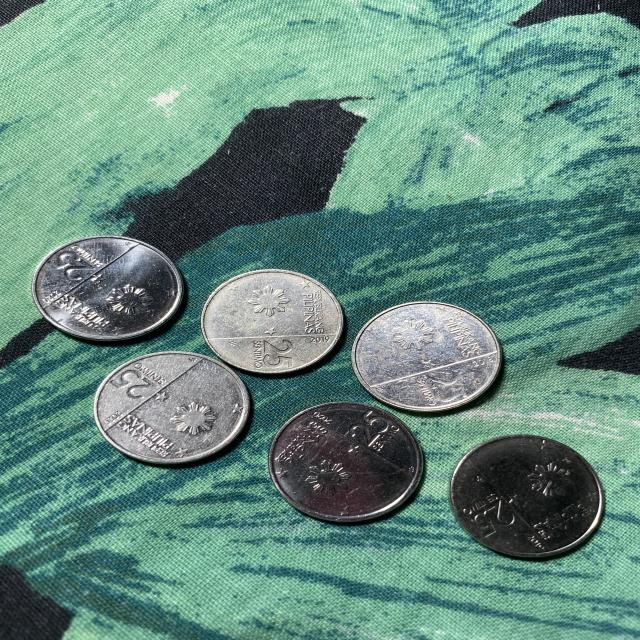25Cent_New_Front: (469, 502, 516, 535), (346, 410, 387, 445), (52, 250, 93, 282), (255, 338, 298, 368), (109, 371, 153, 400), (430, 371, 466, 399)
